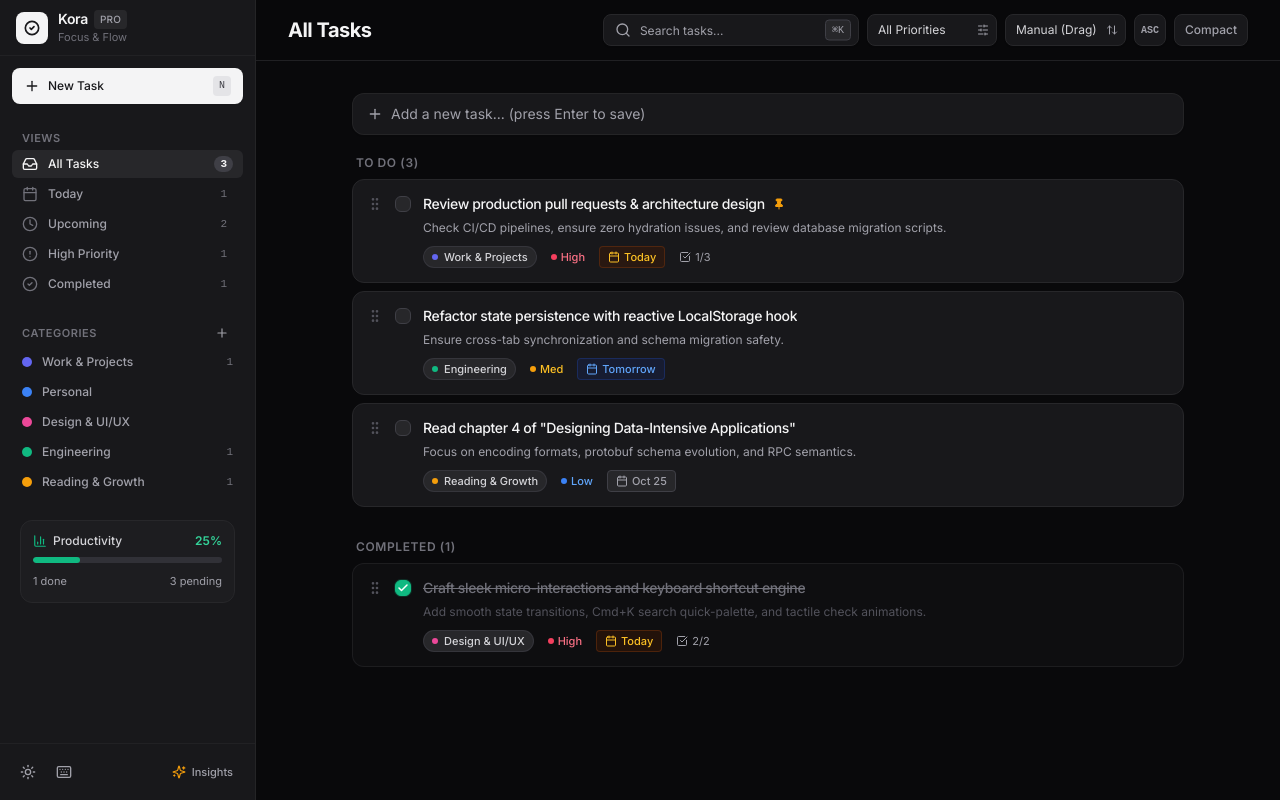
Test: Kora Modern Todo Application › toggles task completion status
Type "Test completion toggle" into the field with placeholder "Add a new task... (press Enter to save)". click: [782, 114]
box: [391, 104, 1173, 124]
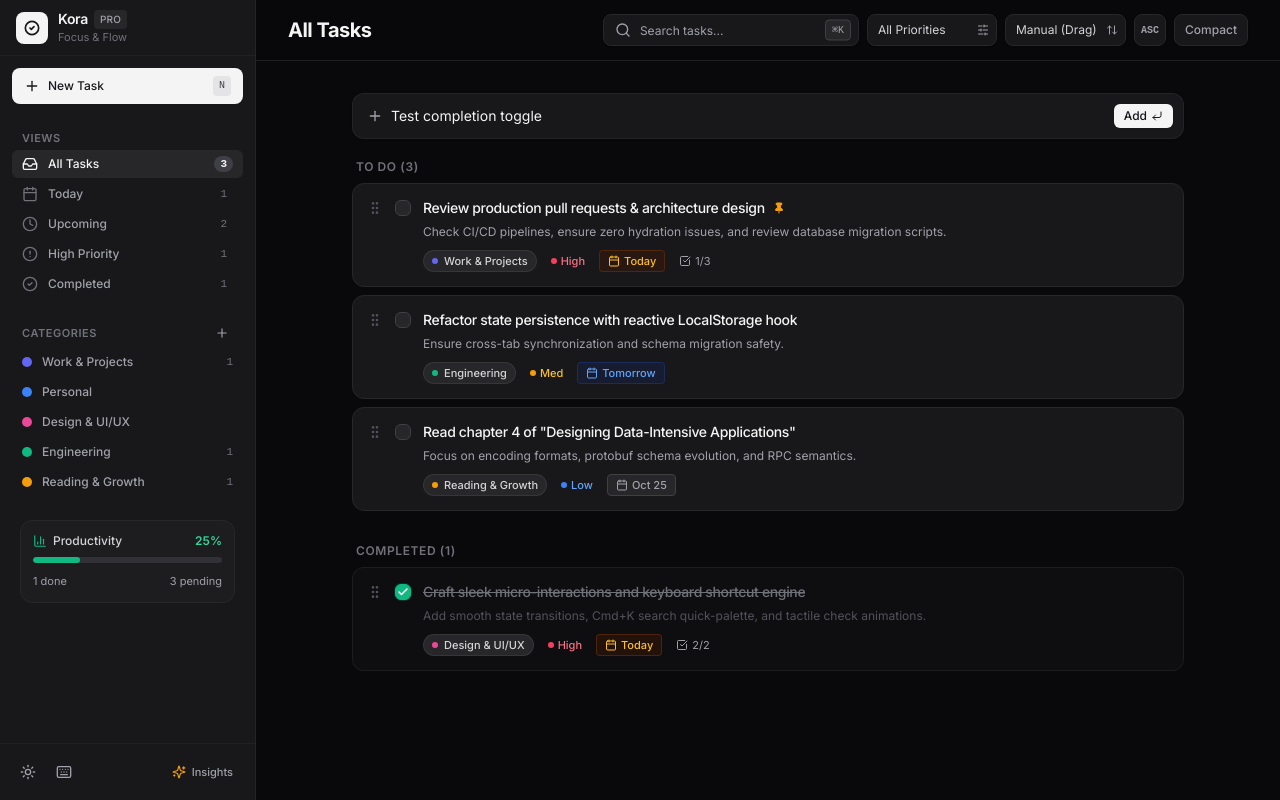
Submit the form with placeholder "Add a new task", box [352, 93, 1184, 139]
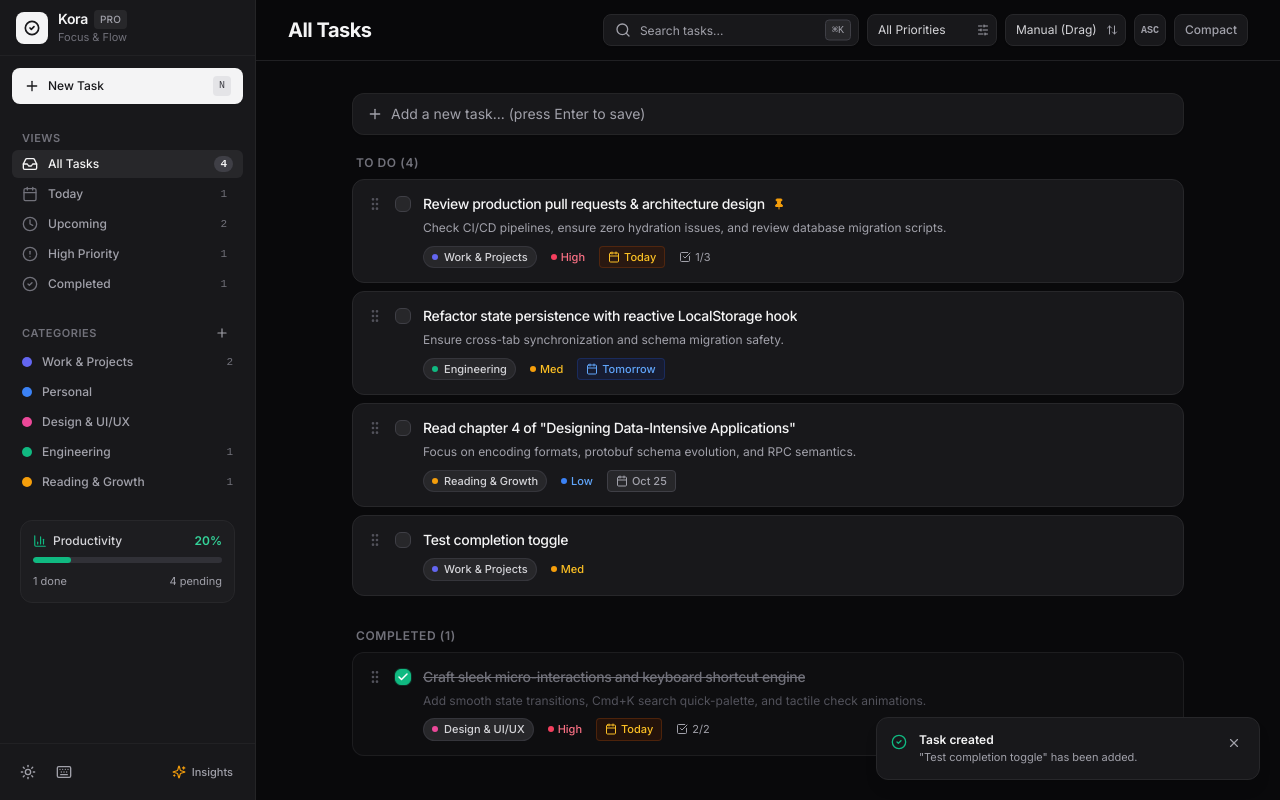
Expected: the text "Test completion toggle" is shown, [423, 530, 568, 550]
Expected: the 4th button named "Mark task as complete" is shown
Click the 4th button named "Mark task as complete". click: [403, 540]
box: [395, 532, 411, 548]
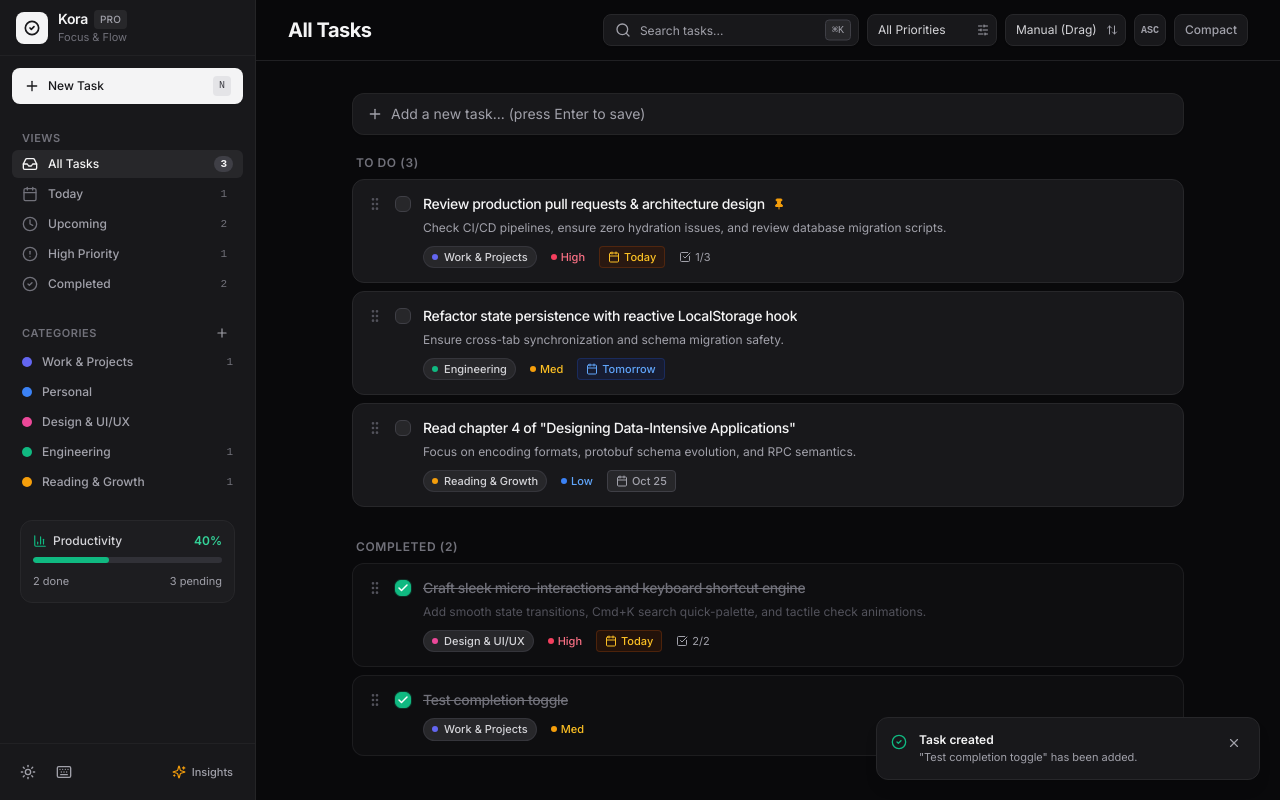
Expected: the 2nd button named "Mark task as incomplete" is shown, [395, 692, 411, 708]
